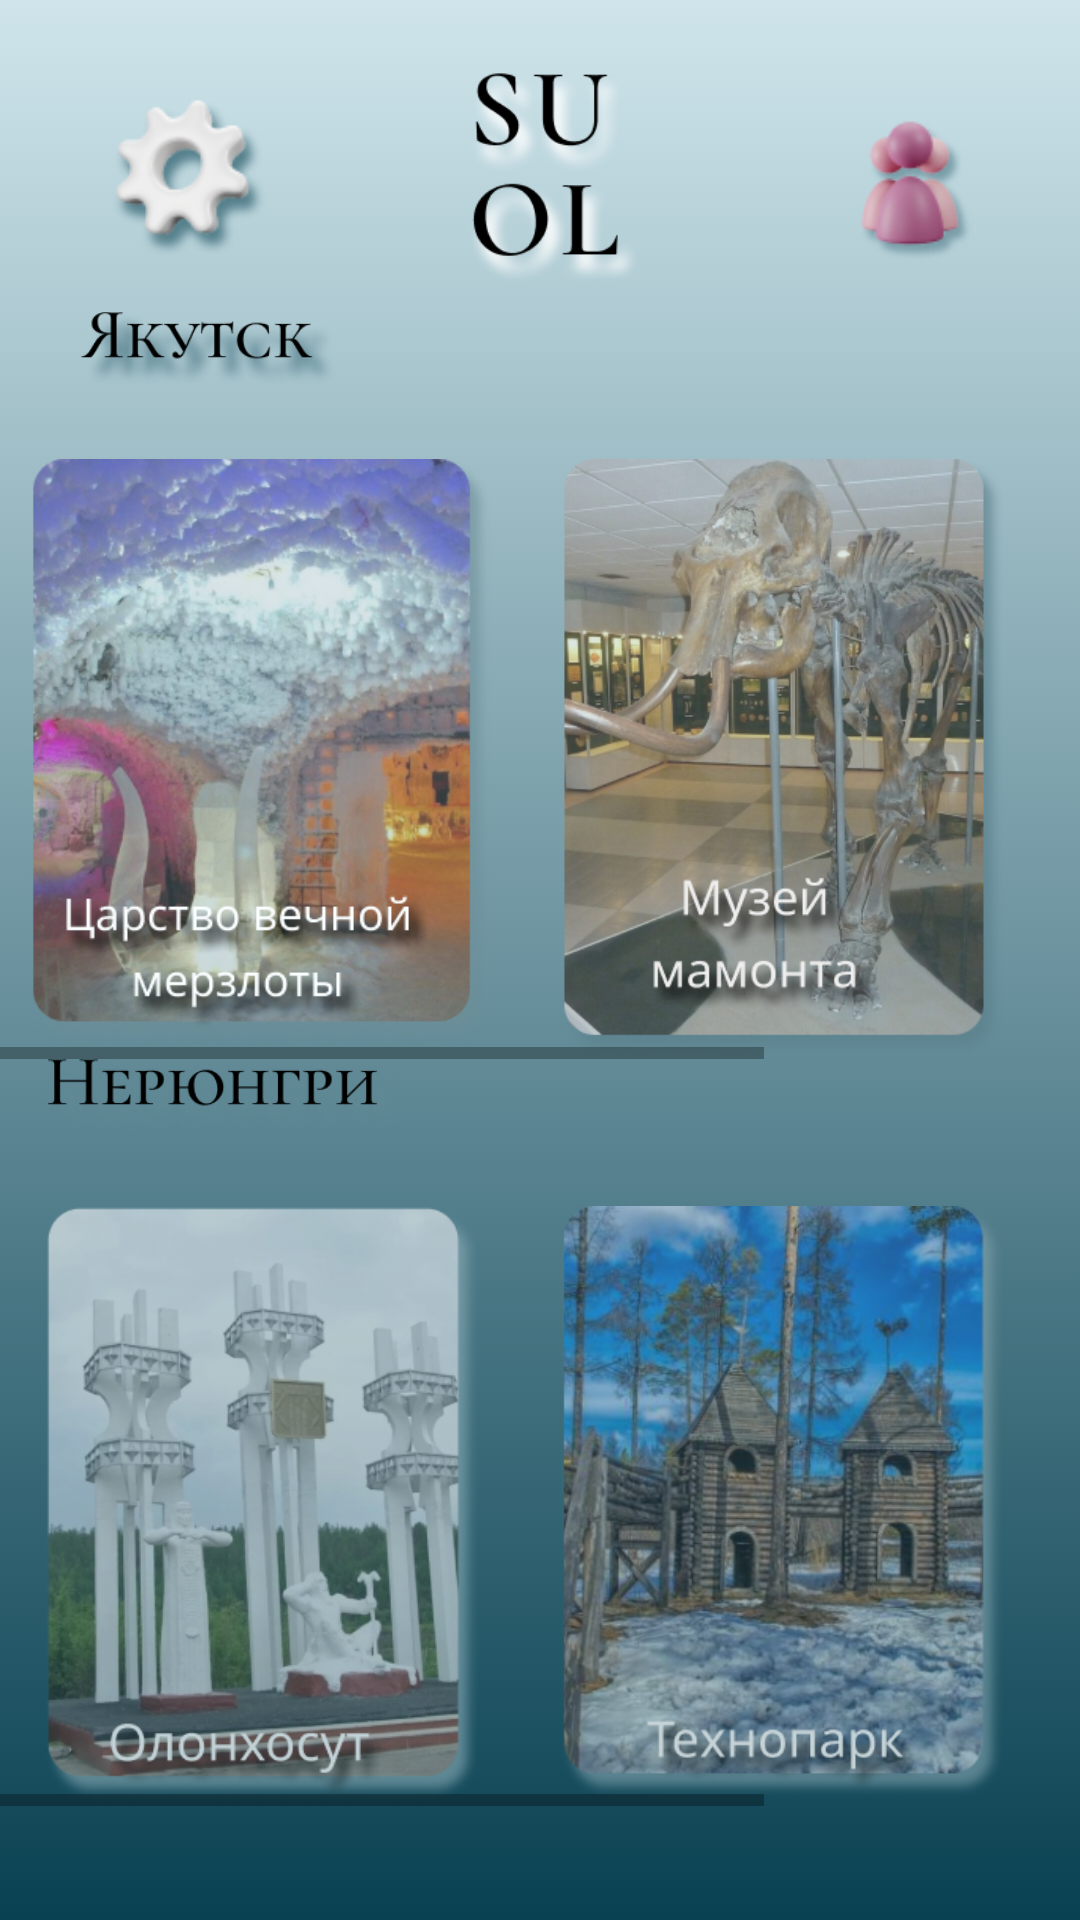

Icons on this 1080w x 1920h Android screen, each with the point to tap as (x,y):
account: (915,189)
setting: (187,174)
